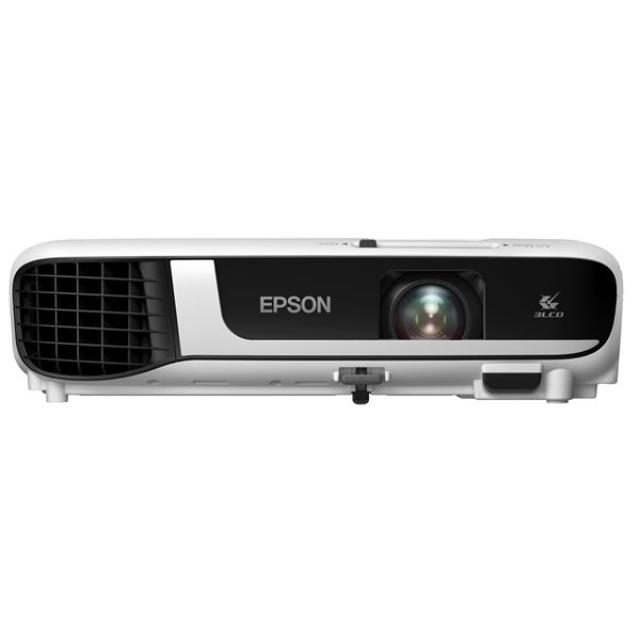Projector: (0, 195, 640, 413)
